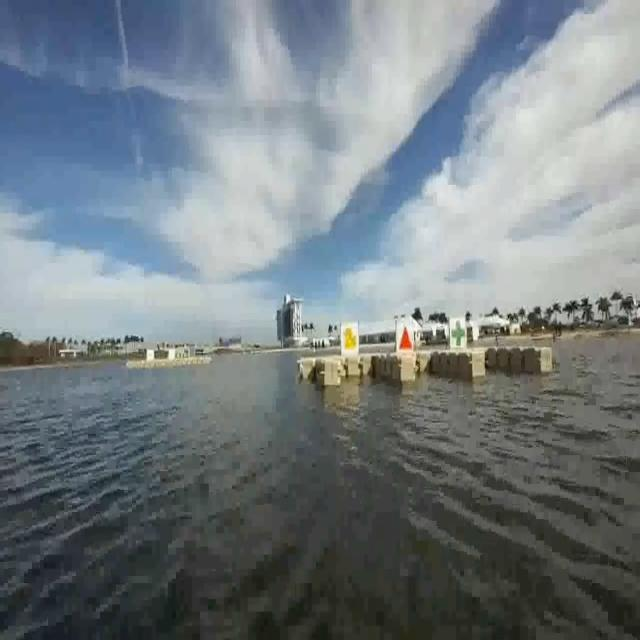blue-cross: (450, 313, 468, 349)
red-dot: (398, 317, 417, 363)
yellow-buoy: (342, 320, 360, 354)
